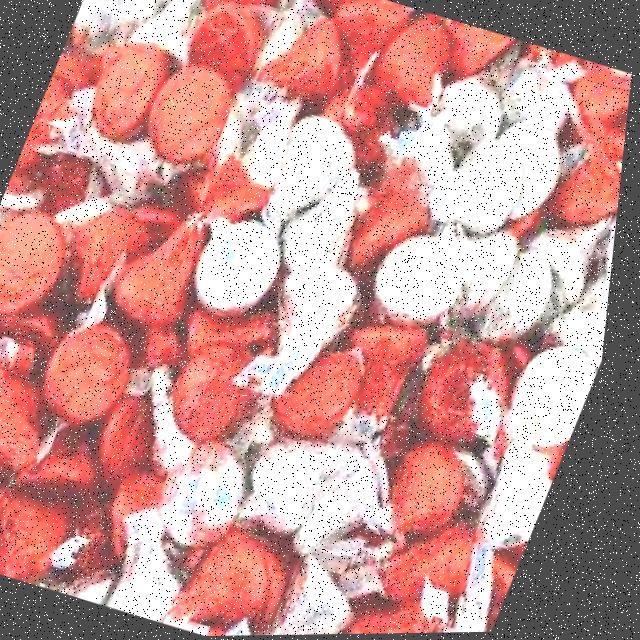kisses: (252, 233, 407, 417), (235, 409, 395, 561), (163, 190, 305, 335), (405, 136, 539, 251), (55, 28, 182, 145), (250, 0, 376, 117), (0, 347, 93, 505)
